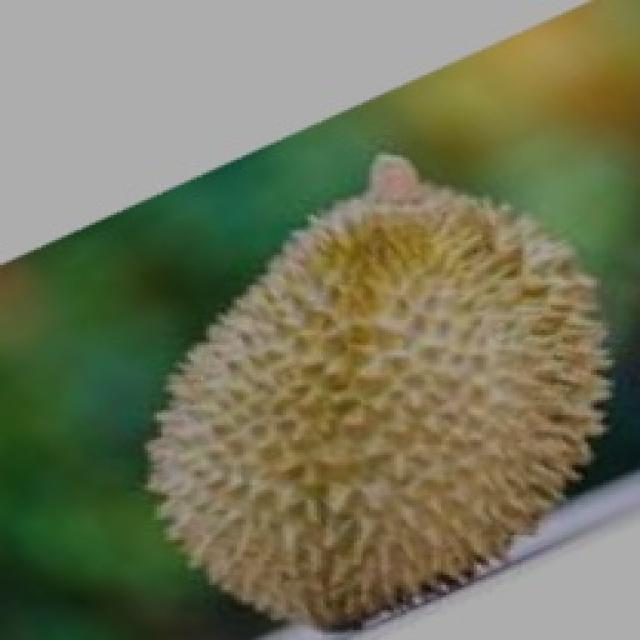fruit: (89, 212, 465, 640), (298, 257, 639, 640)
